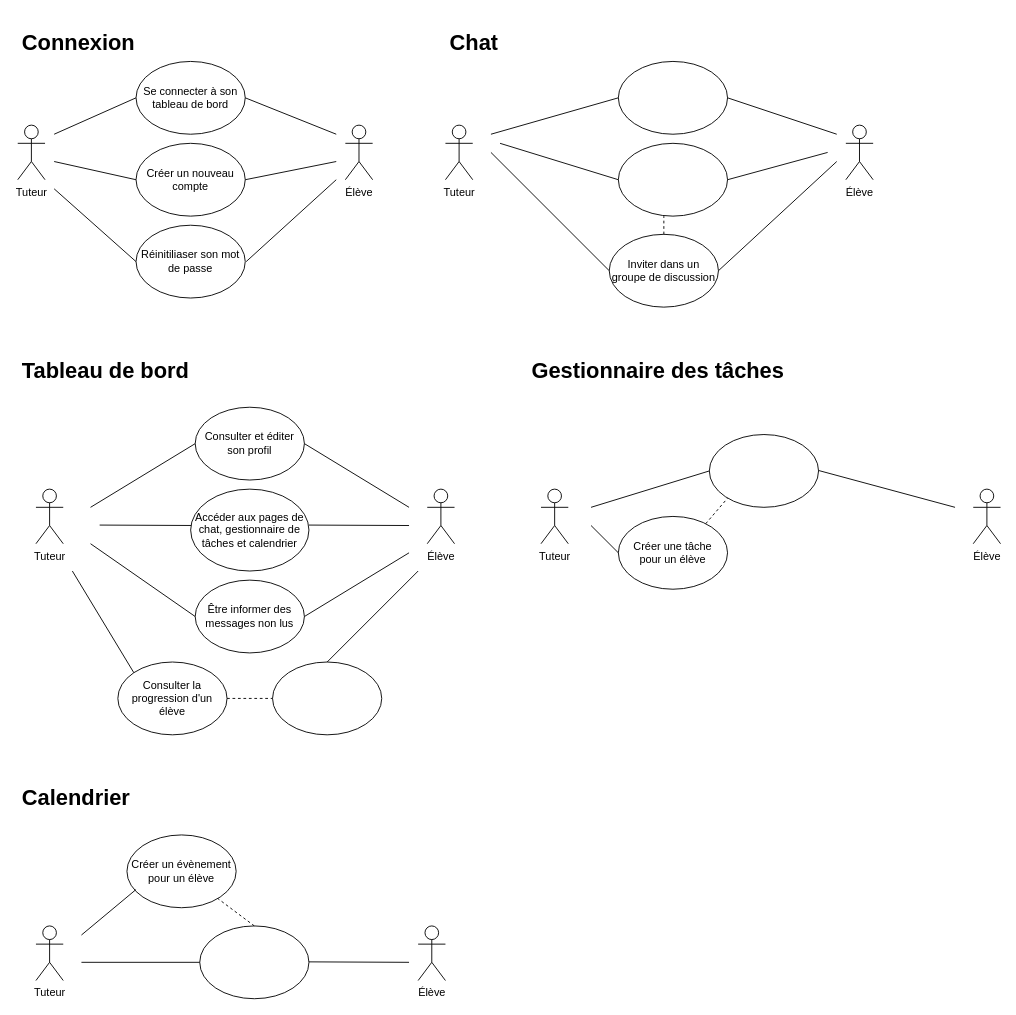
This 1016x1015 diagram has some shape labels left out. The shapes that lost their labels are listed below. From the top down, each one's centre as x and y in pixels, then its label:
pixel 672 97: Consulter et envoyer des messages
pixel 672 179: Créer un groupe de discussion
pixel 763 470: Consulter et créer ses tâches
pixel 327 698: Consulter sa progression
pixel 254 962: Consulter les évènements et en créer pour soi-même
